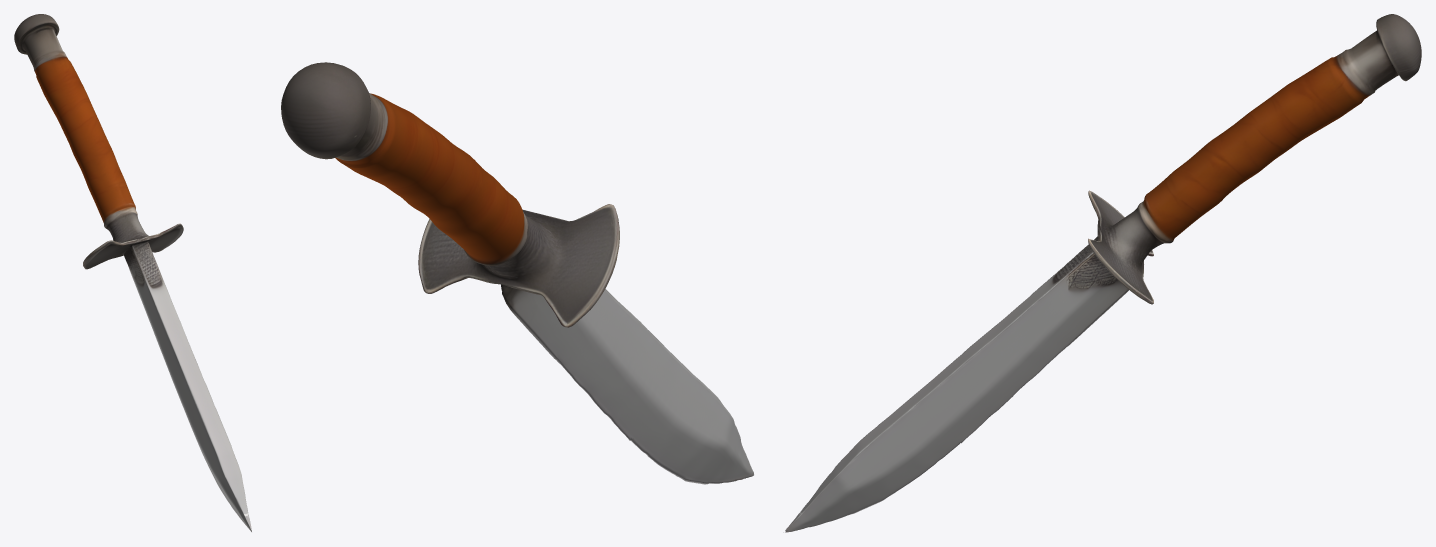
Rendered from dagger.glb.
3 views of the same model, side by side, from view 1: azimuth 30°, elevation 25°; view 2: azimuth 150°, elevation 25°; view 3: azimuth 270°, elevation 25° (orthographic). The views are drawn at different scales.
Visible parts, largest first — view 1: model; view 2: model; view 3: model.
Part boxes in pixels (bbox=[...]): model: bbox=[14, 14, 251, 531]; model: bbox=[281, 62, 754, 484]; model: bbox=[783, 14, 1421, 532].
Size of the model in its own units: 0.4523 by 1.69 by 1.9.
Materials: 1 (1 with a texture image).
